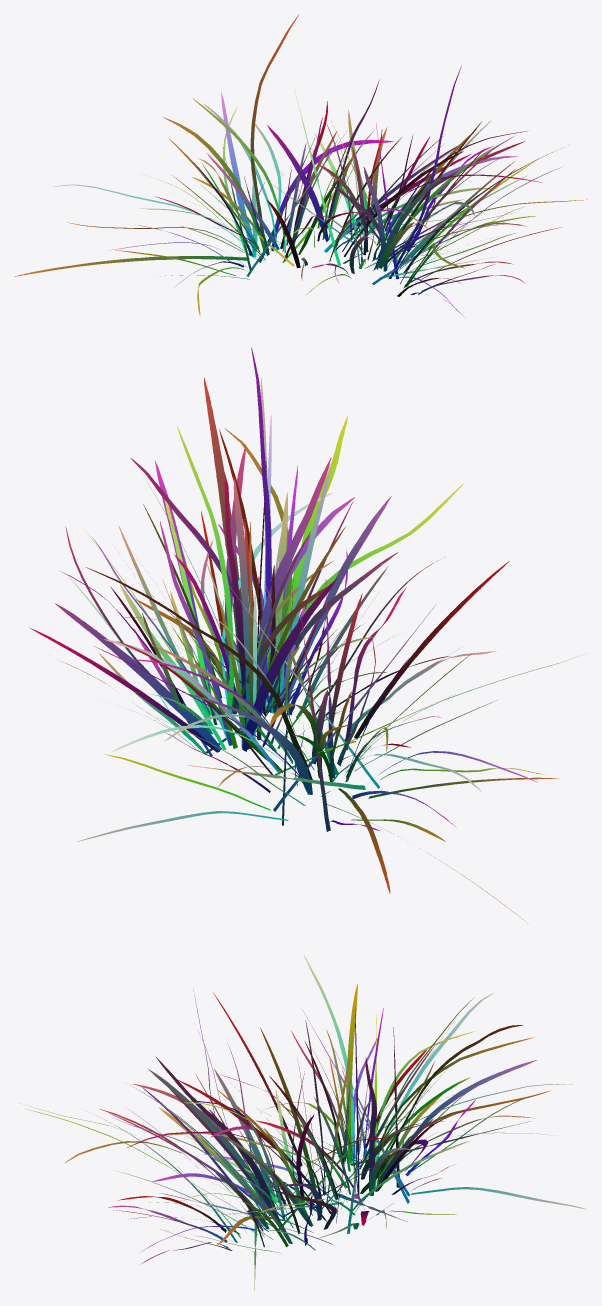
The model's file is Wild_Grass_vlkhcbxia_Raw_vlkhcbxia_VarF_LOD0.fbx.
The picture shows the model from 3 angles, top to bottom: view 1: azimuth 30°, elevation 25°; view 2: azimuth 150°, elevation 25°; view 3: azimuth 270°, elevation 25°; orthographic projection. The views are drawn at different scales.
Visible parts, largest first — view 1: _rmt9_VarF_High; view 2: _rmt9_VarF_High; view 3: _rmt9_VarF_High.
Boxes of the visible parts, <box> form: _rmt9_VarF_High: <box>14,14,587,317</box>; _rmt9_VarF_High: <box>29,347,583,924</box>; _rmt9_VarF_High: <box>21,954,586,1290</box>.
Bounding box in the file's own units: 28.86 × 15.6 × 28.7.
